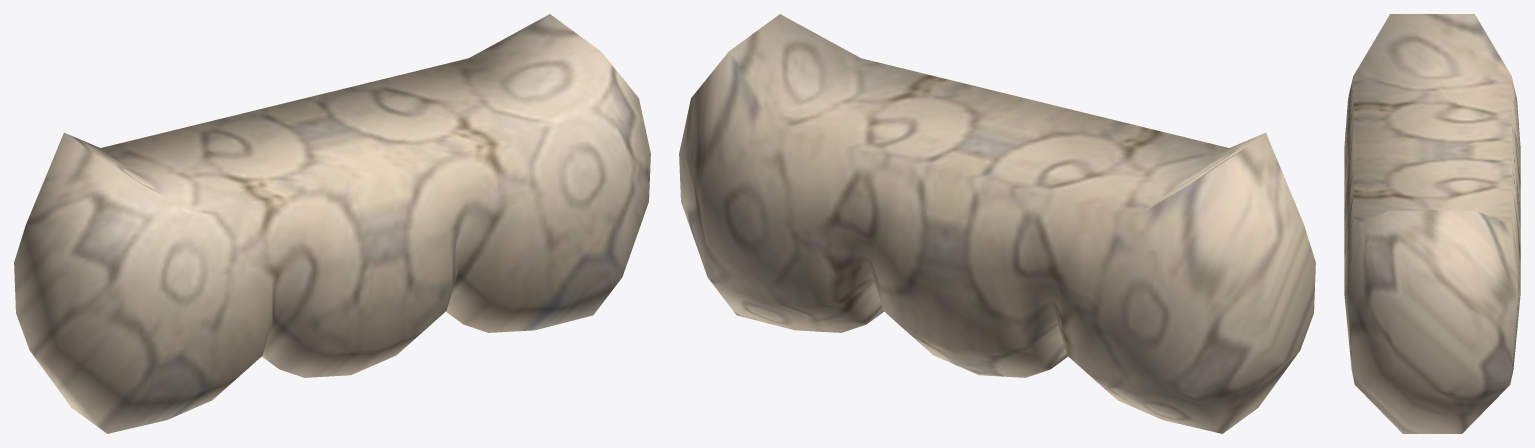
File: toad-prop-far-cloud.glb
The picture shows the model from 3 angles, left to right: view 1: azimuth 30°, elevation 25°; view 2: azimuth 150°, elevation 25°; view 3: azimuth 270°, elevation 25°; orthographic projection. The views are drawn at different scales.
Parts seen in each view (by area): view 1: far-cloud; view 2: far-cloud; view 3: far-cloud.
Part boxes in pixels (bbox=[...]): far-cloud: bbox=[14, 14, 650, 433]; far-cloud: bbox=[679, 14, 1315, 433]; far-cloud: bbox=[1344, 14, 1520, 433].
Bounding box in the file's own units: 0.16 × 0.07 × 0.05.
1 material, 1 textured.
